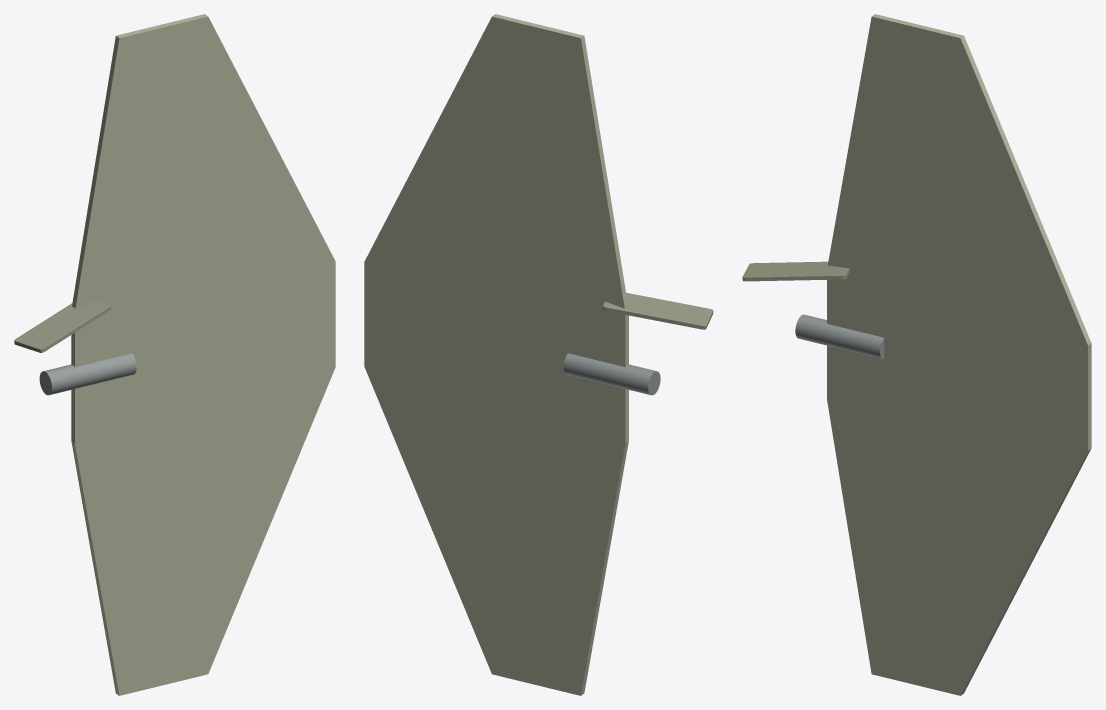
File: v-u22-vanguard-recon-drone-lod2.glb
3 views of the same model, side by side, from view 1: azimuth 30°, elevation 25°; view 2: azimuth 150°, elevation 25°; view 3: azimuth 330°, elevation 25° (orthographic).
Parts seen in each view (by area): view 1: recon_drone_wing, recon_engine_0, recon_drone_vtail_1; view 2: recon_drone_wing, recon_engine_0, recon_drone_vtail_1; view 3: recon_drone_wing, recon_engine_0, recon_drone_vtail_1.
Part boxes in pixels (bbox=[...]): recon_drone_wing: bbox=[71, 14, 335, 695]; recon_engine_0: bbox=[39, 353, 136, 395]; recon_drone_vtail_1: bbox=[14, 301, 110, 352]; recon_drone_wing: bbox=[364, 14, 628, 695]; recon_engine_0: bbox=[563, 353, 660, 395]; recon_drone_vtail_1: bbox=[602, 292, 713, 329]; recon_drone_wing: bbox=[827, 14, 1091, 695]; recon_engine_0: bbox=[795, 314, 884, 359]; recon_drone_vtail_1: bbox=[742, 261, 849, 281].
Size of what is drawn, in the model's own units: 5.68 by 10.82 by 1.01.
